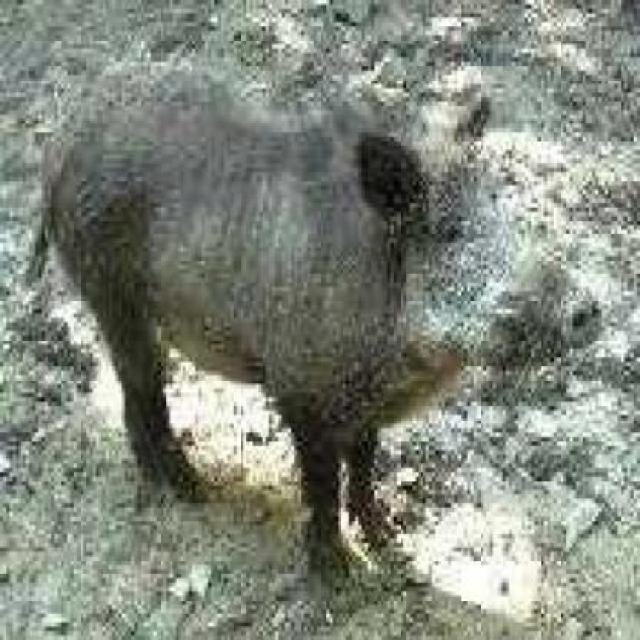pig: (27, 34, 626, 590)
